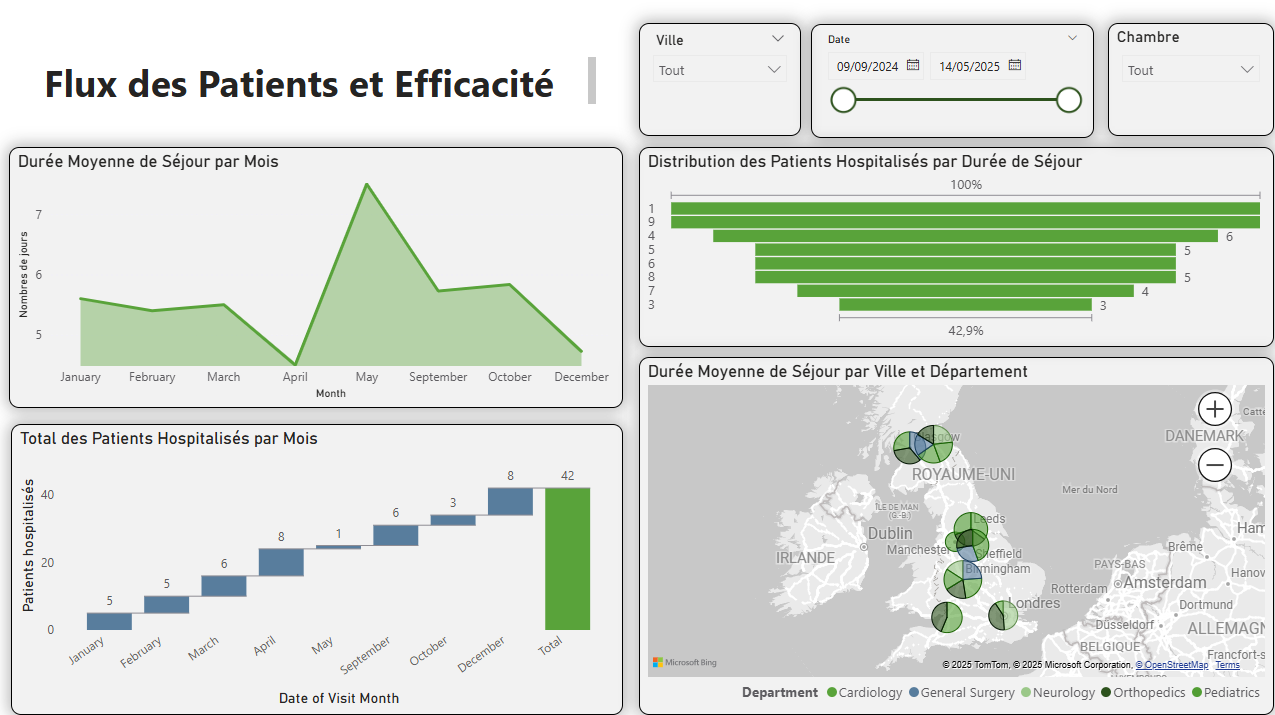

The dashboard page shown, as its layout file describes it:
{"tool":"powerbi","page":{"name":"Flux des Patients","canvas":[1280,720],"ordinal":3},"visuals":[{"type":"waterfallChart","title":"Total des Patients Hospitalisés par Mois","fields":{"Category":["visits.Date of Visit.Variation.Date Hierarchy.Month"],"Y":["visits.Total Inpatient Patients"]},"box":[12.6,426.7,612.8,291],"z":0},{"type":"slicer","fields":{"Values":["visits.Admitted Date"]},"box":[813.1,27.3,283.2,113.6],"z":1000},{"type":"funnel","title":"Distribution des Patients Hospitalisés par Durée de Séjour","fields":{"Category":["visits.Length of Stay"],"Y":["visits.Total Inpatient Patients"]},"box":[640.5,149.9,636,199.9],"z":2000},{"type":"slicer","title":"Chambre","fields":{"Values":["visits.Room Type"]},"box":[1109.9,25.7,166.6,113.6],"z":3000},{"type":"stackedAreaChart","title":"Durée Moyenne de Séjour par Mois","fields":{"Y":["Avg(visits.Length of Stay)"],"Category":["visits.Admitted Date.Variation.Date Hierarchy.Month"]},"box":[11.2,149.7,614.2,261.6],"z":4000},{"type":"map","title":"Durée Moyenne de Séjour par Ville et Département","fields":{"Category":["cities.City"],"Size":["Avg(visits.Length of Stay)"],"Series":["departments.Department"]},"box":[640.5,360.4,636,357.4],"z":5000},{"type":"textbox","box":[40.6,54.7,562.5,57.8],"z":6000},{"type":"slicer","fields":{"Values":["cities.City"]},"box":[640.5,25.7,162,113.6],"z":7000}]}

Visuals, with their boxes in screenshot pixels (x1, y1, x2, y2), scaled from the page's 1280x720 canvas onto the 1275x715 screenshot:
"Total des Patients Hospitalisés par Mois" waterfallChart: 13,424,623,713
slicer - visits.Admitted Date: 810,27,1092,140
"Distribution des Patients Hospitalisés par Durée de Séjour" funnel: 638,149,1272,347
"Chambre" slicer: 1106,26,1272,138
"Durée Moyenne de Séjour par Mois" stackedAreaChart: 11,149,623,408
"Durée Moyenne de Séjour par Ville et Département" map: 638,358,1272,713
textbox: 40,54,601,112
slicer - cities.City: 638,26,799,138
